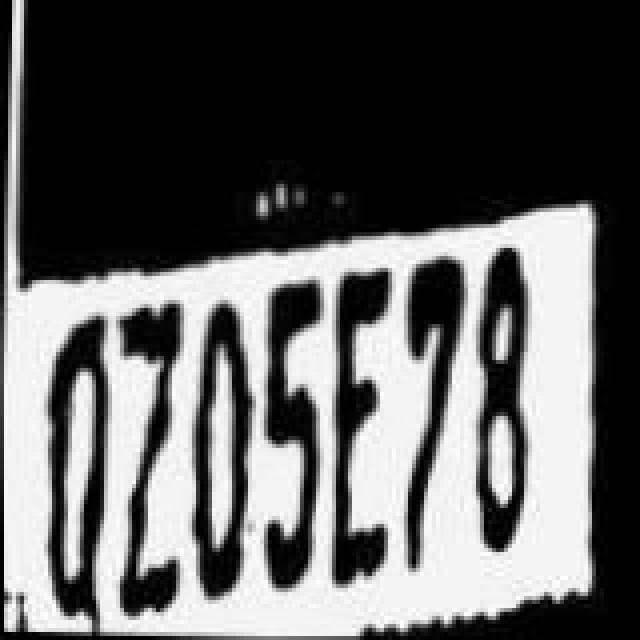5: (244, 282, 336, 598)
7: (388, 254, 472, 598)
8: (460, 232, 564, 576)
E: (328, 266, 404, 598)
O: (182, 294, 262, 606)
Q: (22, 310, 114, 634)
Z: (106, 294, 194, 622)
